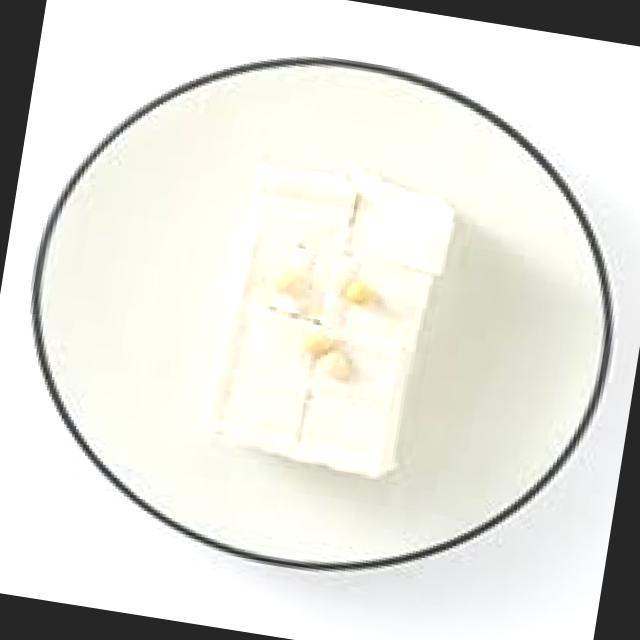tof: (179, 142, 465, 497)
